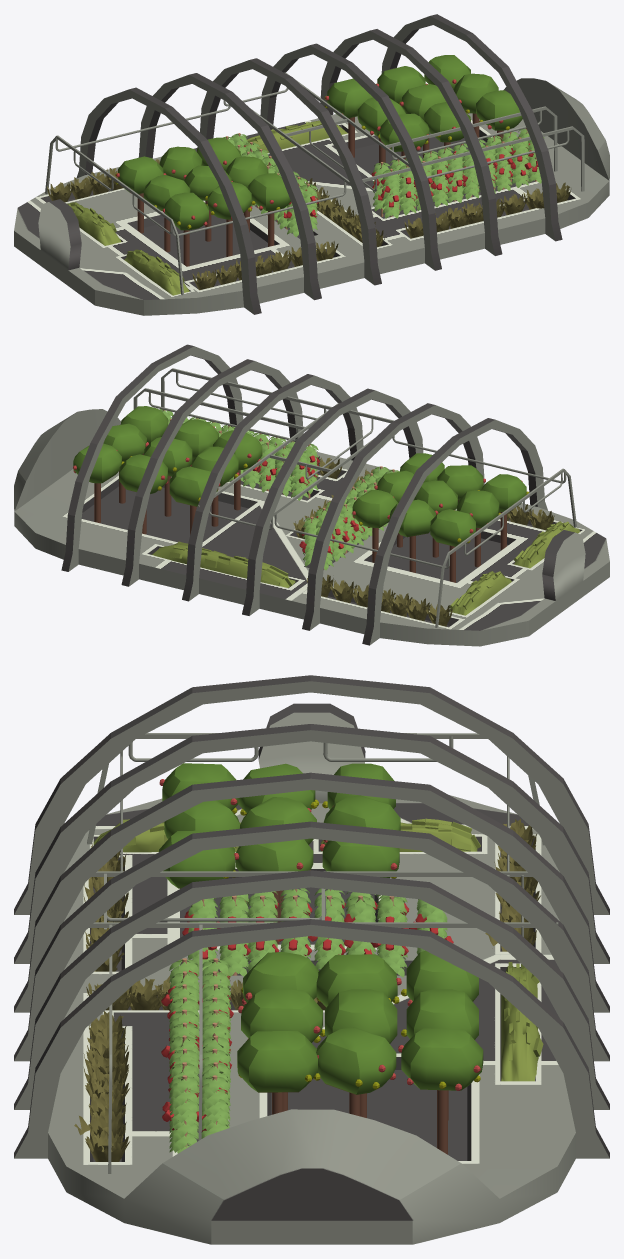
The model's file is food.fbx.
3 views of the same model, one above another, from view 1: azimuth 30°, elevation 25°; view 2: azimuth 150°, elevation 25°; view 3: azimuth 270°, elevation 25° (orthographic). The views are drawn at different scales.
Parts seen in each view (by area): view 1: resourbuildes_and:resourbuildes_and:resourbuildes_and:resour; view 2: resourbuildes_and:resourbuildes_and:resourbuildes_and:resour; view 3: resourbuildes_and:resourbuildes_and:resourbuildes_and:resour.
Part boxes in pixels (x1,y1,x2,y2): resourbuildes_and:resourbuildes_and:resourbuildes_and:resour: [14, 14, 609, 315]; resourbuildes_and:resourbuildes_and:resourbuildes_and:resour: [14, 344, 609, 646]; resourbuildes_and:resourbuildes_and:resourbuildes_and:resour: [14, 675, 609, 1244].
Size of the model in its own units: 55.4 by 14.21 by 32.82.
